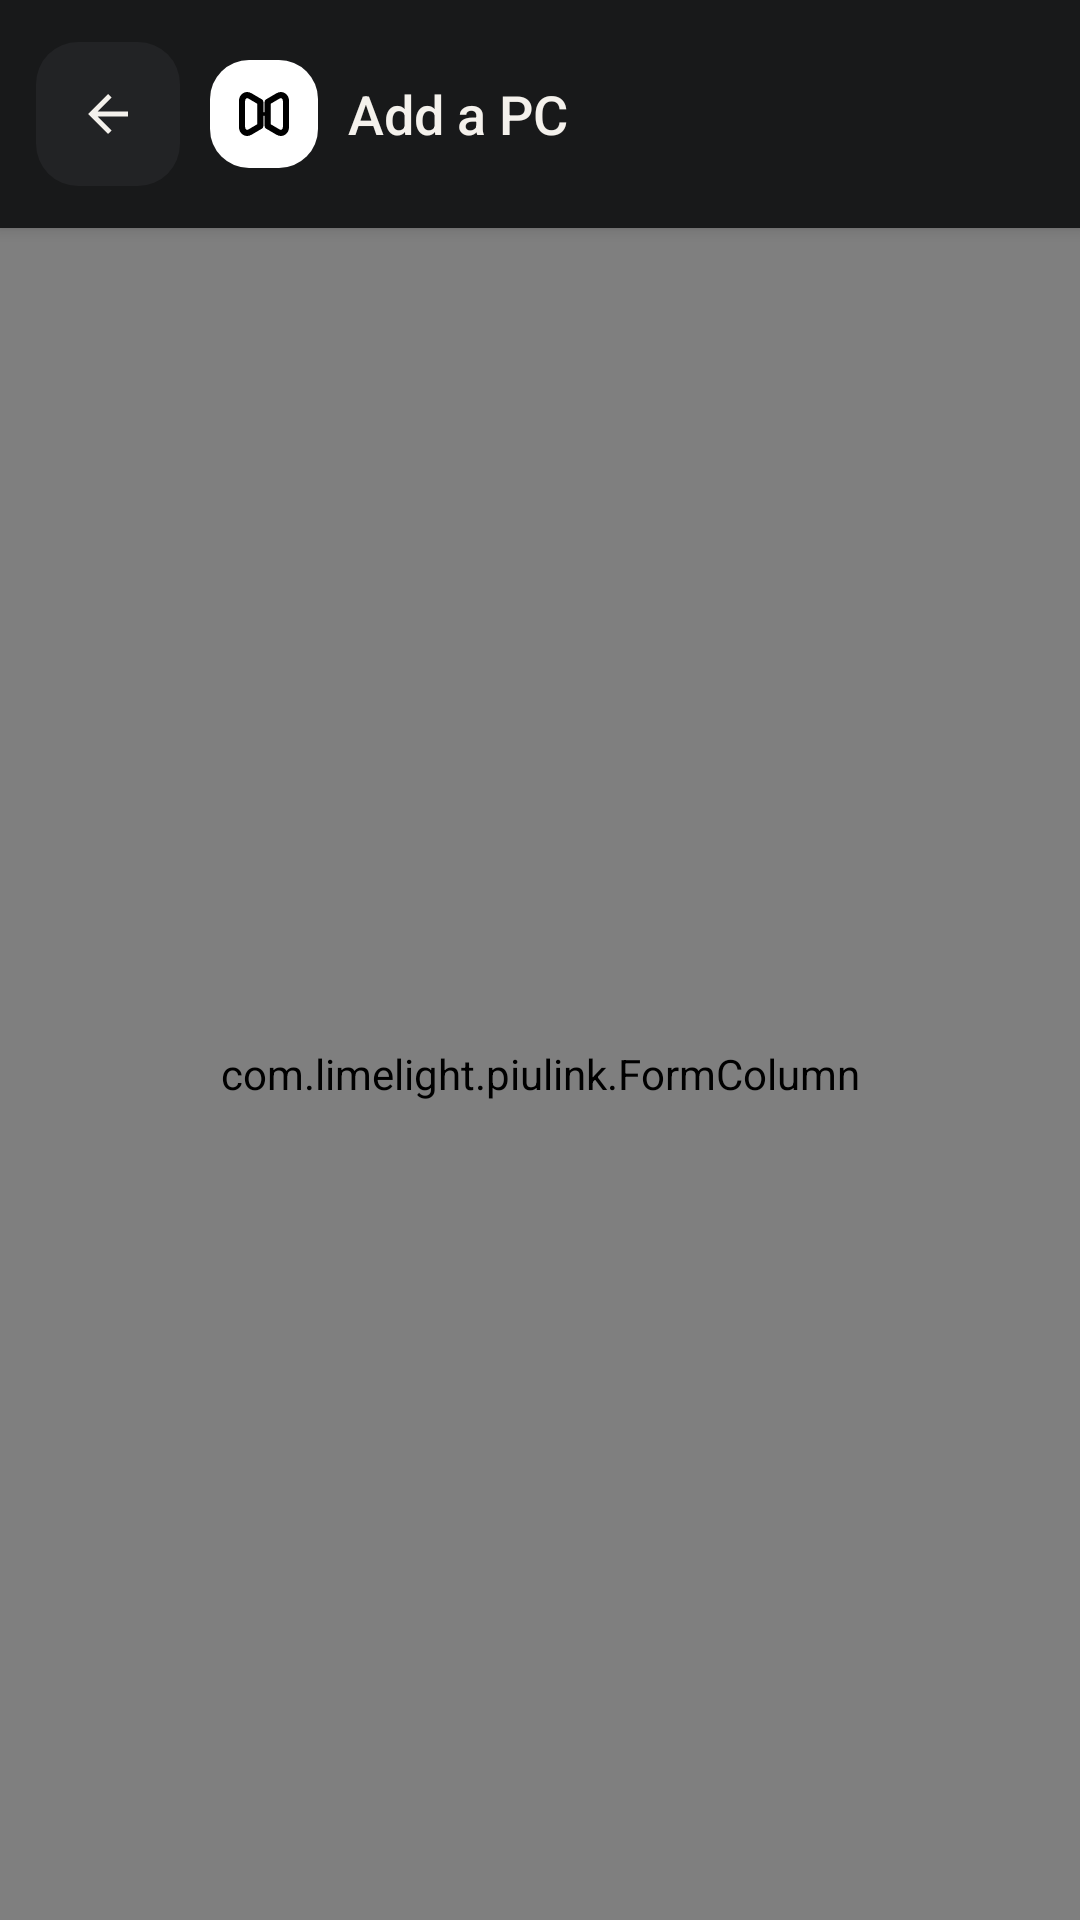

Icons on this 1080x1920 Android screen, each with the point to tap as point (x, y):
Back: point (108, 114)
